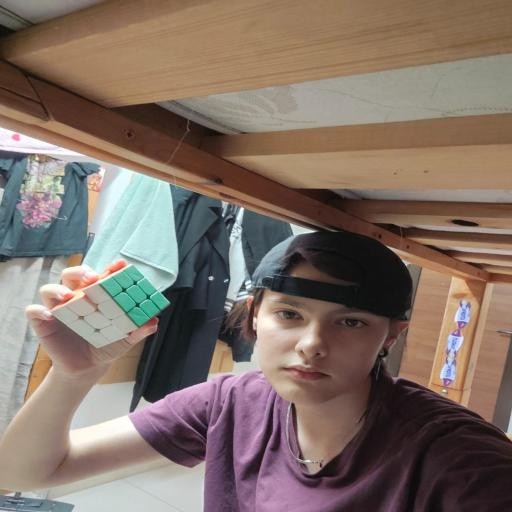Rubiks Cube: (46, 264, 172, 347)
